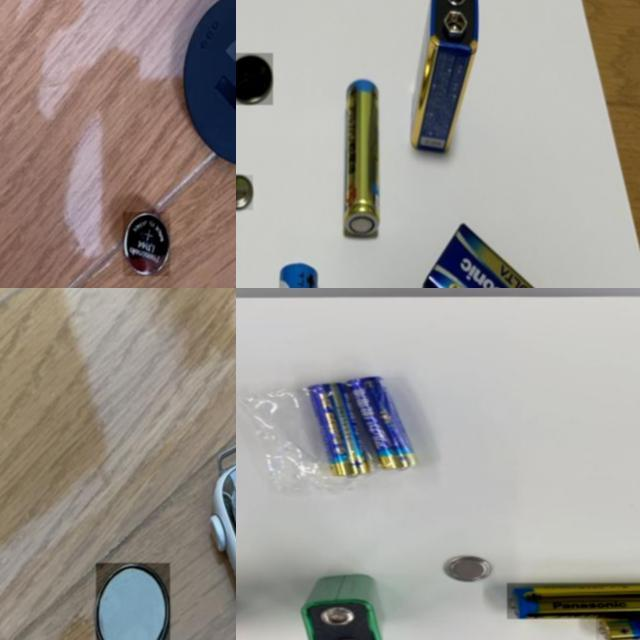9V: (416, 219, 570, 288), (409, 0, 479, 151), (299, 574, 385, 640)
